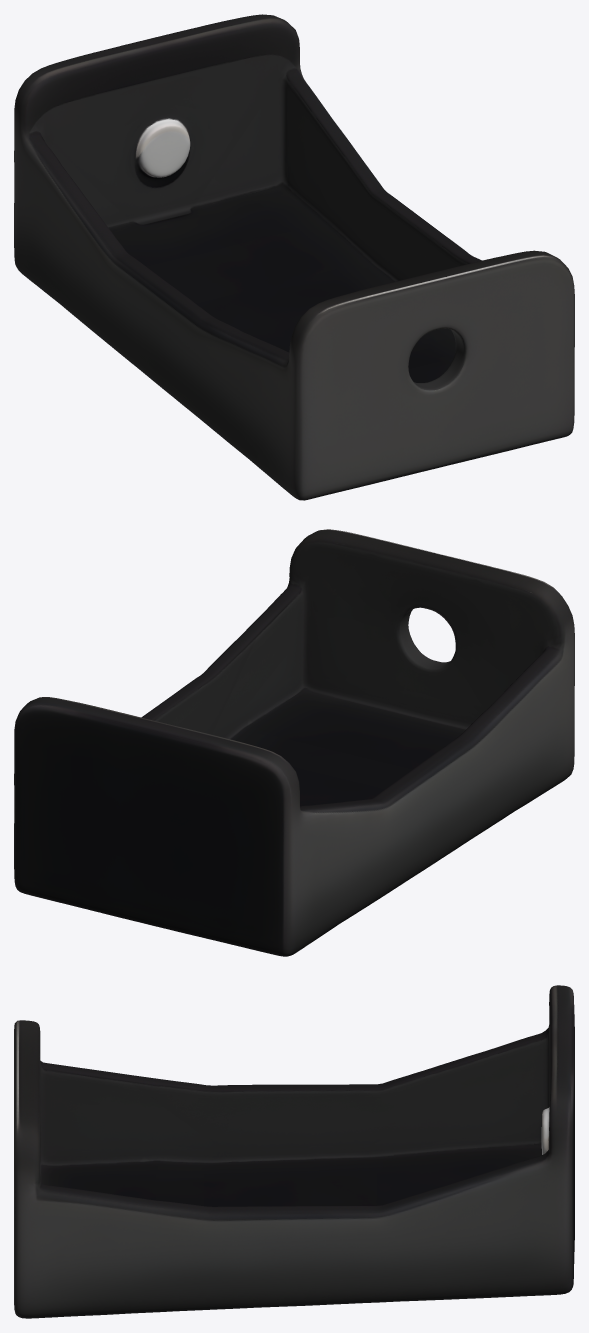
The model's file is base_basic_pbr.fbx.
The picture shows the model from 3 angles, top to bottom: view 1: azimuth 30°, elevation 25°; view 2: azimuth 150°, elevation 25°; view 3: azimuth 270°, elevation 25°; orthographic projection. The views are drawn at different scales.
Visible parts, largest first — view 1: model; view 2: model; view 3: model.
Boxes of the visible parts, left/top/right/bottom form: model: left=14, top=14, right=574, bottom=500; model: left=14, top=529, right=574, bottom=956; model: left=14, top=985, right=574, bottom=1318.
Size of the model in its own units: 107 by 81.62 by 191.
1 material, 1 textured.
